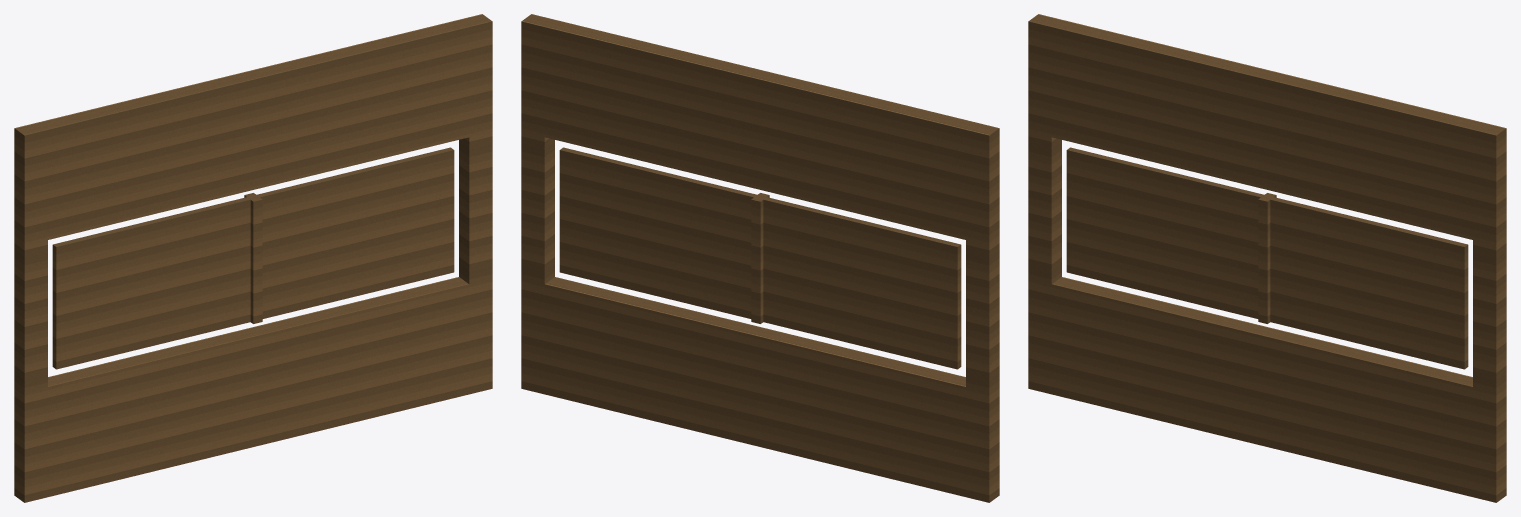
The picture shows the model from 3 angles, left to right: view 1: azimuth 30°, elevation 25°; view 2: azimuth 150°, elevation 25°; view 3: azimuth 330°, elevation 25°; orthographic projection.
Visible parts, largest first — view 1: win_wood_2u_production_run001; view 2: win_wood_2u_production_run001; view 3: win_wood_2u_production_run001.
Part boxes in pixels (bbox=[...]): win_wood_2u_production_run001: bbox=[14, 14, 492, 502]; win_wood_2u_production_run001: bbox=[521, 14, 999, 502]; win_wood_2u_production_run001: bbox=[1028, 14, 1506, 502].
Bounding box in the file's own units: 4 × 3 × 0.15.
Materials: 1 (1 with a texture image).
